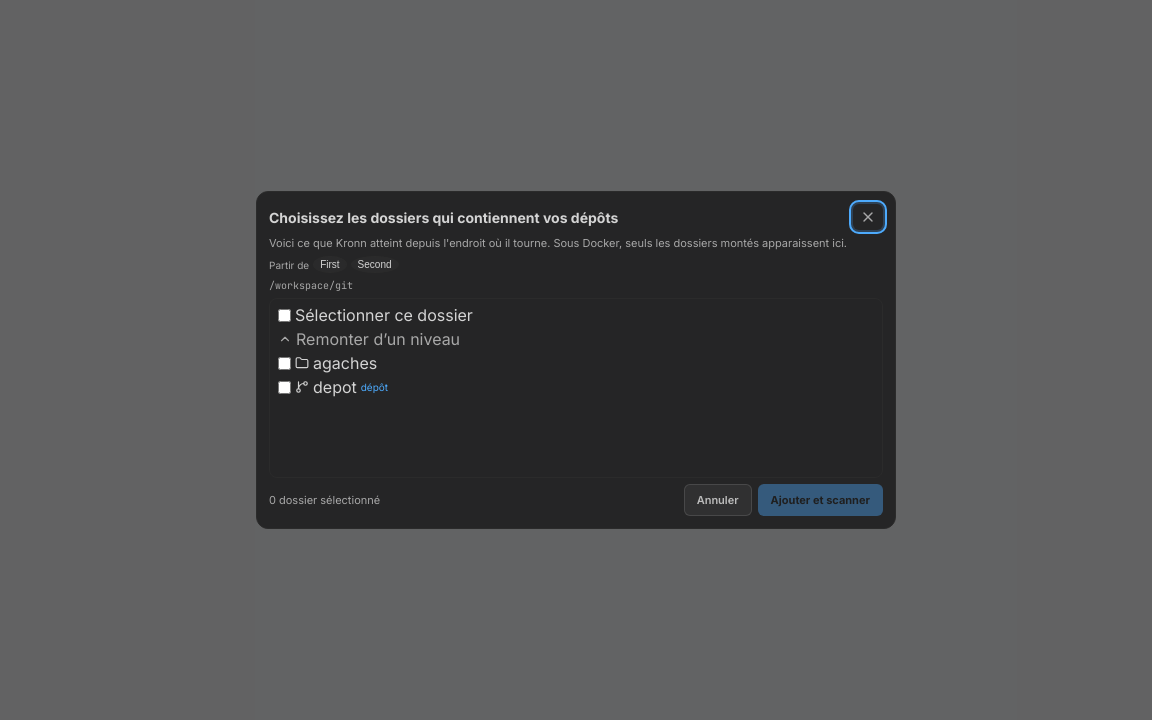
FolderPicker › keeps the last requested folder when an older request ends with success
Click the button "First" at {"x": 330, "y": 264}, box [313,256,347,273]
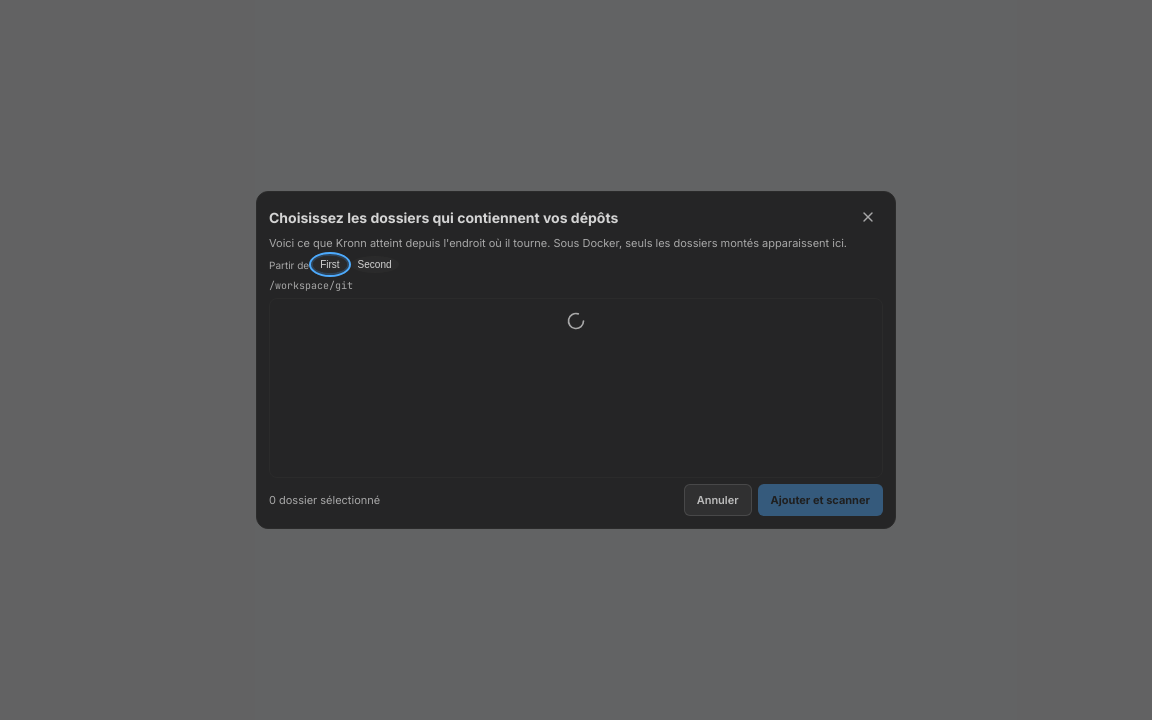
Click the button "Second" at {"x": 375, "y": 264}, box [351,256,398,273]
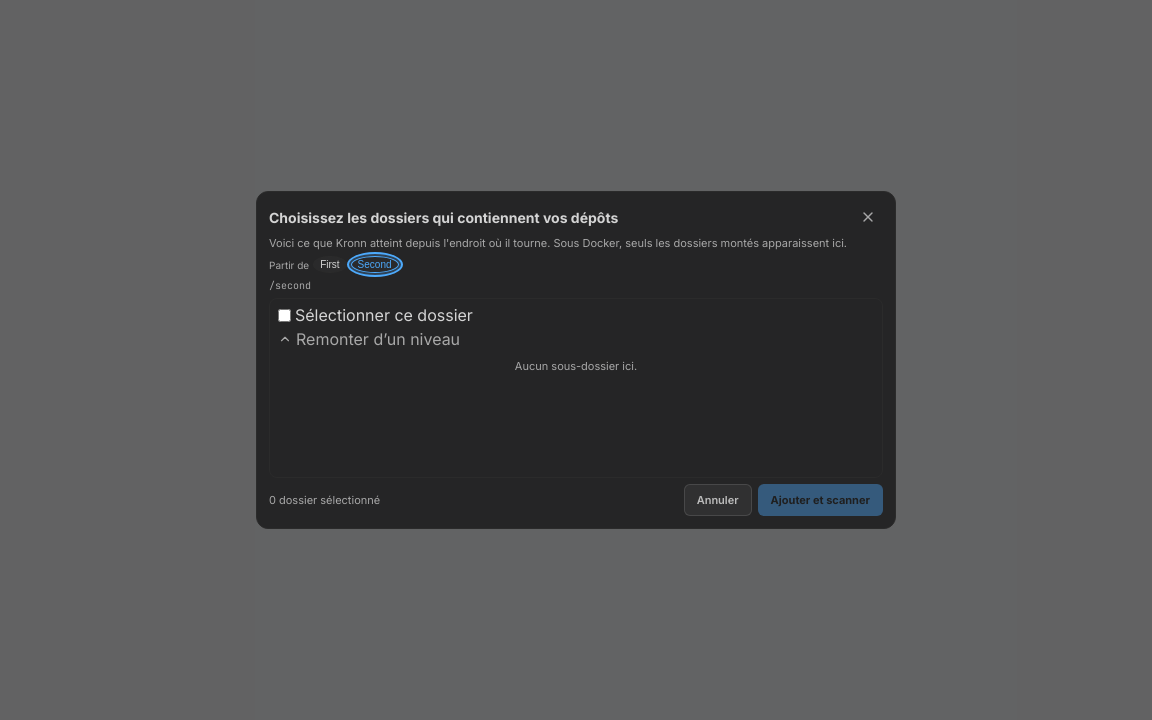
Result: the text "/second" is shown at [269,279,311,292]
